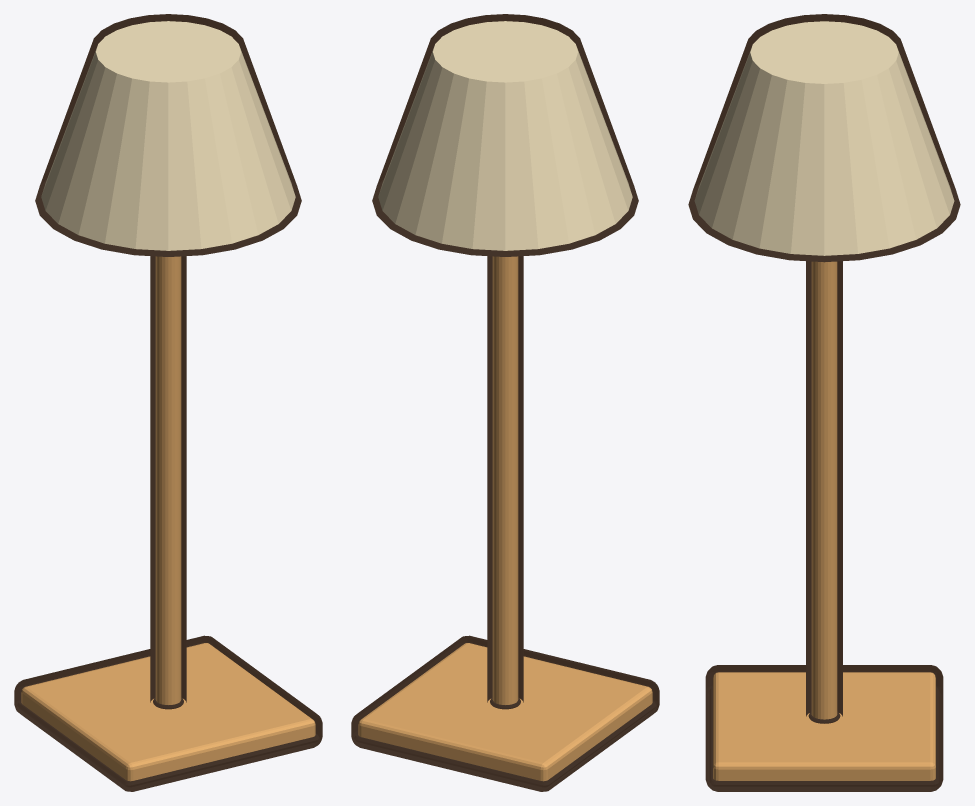
The model's file is luminaria.glb.
The picture shows the model from 3 angles, left to right: view 1: azimuth 30°, elevation 25°; view 2: azimuth 150°, elevation 25°; view 3: azimuth 270°, elevation 25°; orthographic projection. The views are drawn at different scales.
Visible parts, largest first — view 1: luminaria, luminaria_outline; view 2: luminaria, luminaria_outline; view 3: luminaria, luminaria_outline.
Part boxes in pixels (x1,y1,x2,y2): luminaria: (21,21,315,781); luminaria_outline: (14,14,322,791); luminaria: (358,21,652,781); luminaria_outline: (351,14,659,791); luminaria: (694,21,954,780); luminaria_outline: (688,14,960,791).
Size of the model in its own units: 0.7333 by 2.08 by 0.7333.
